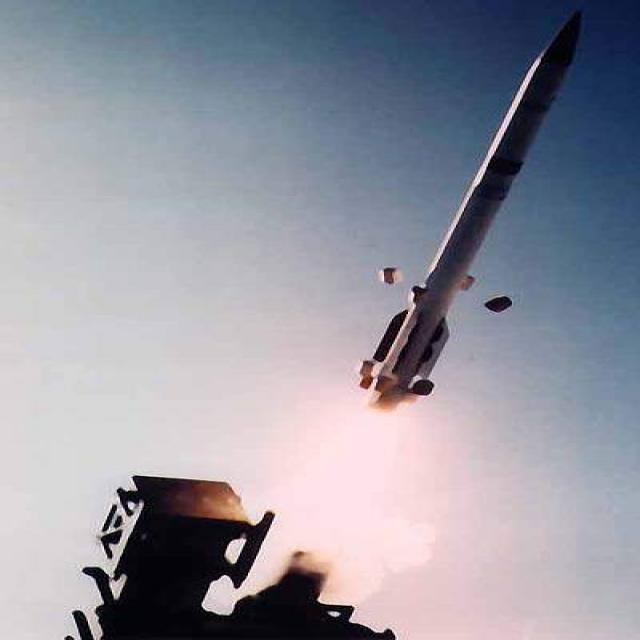missile: (359, 4, 601, 417)
